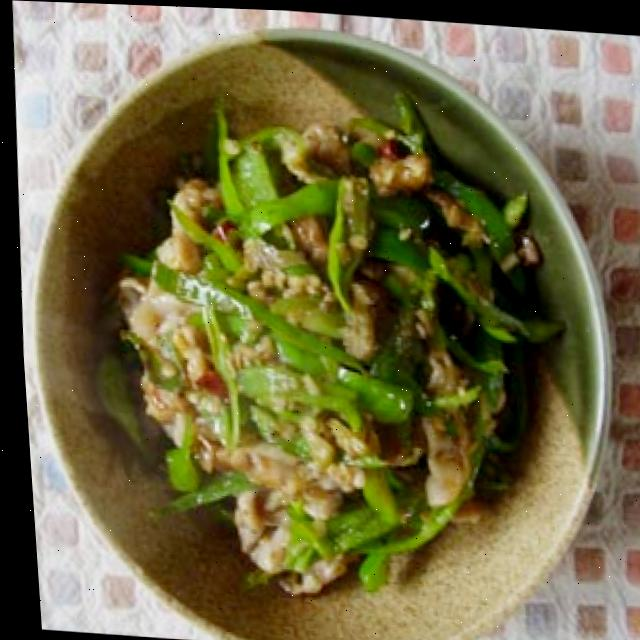牛肉菜式: (80, 66, 562, 612)
